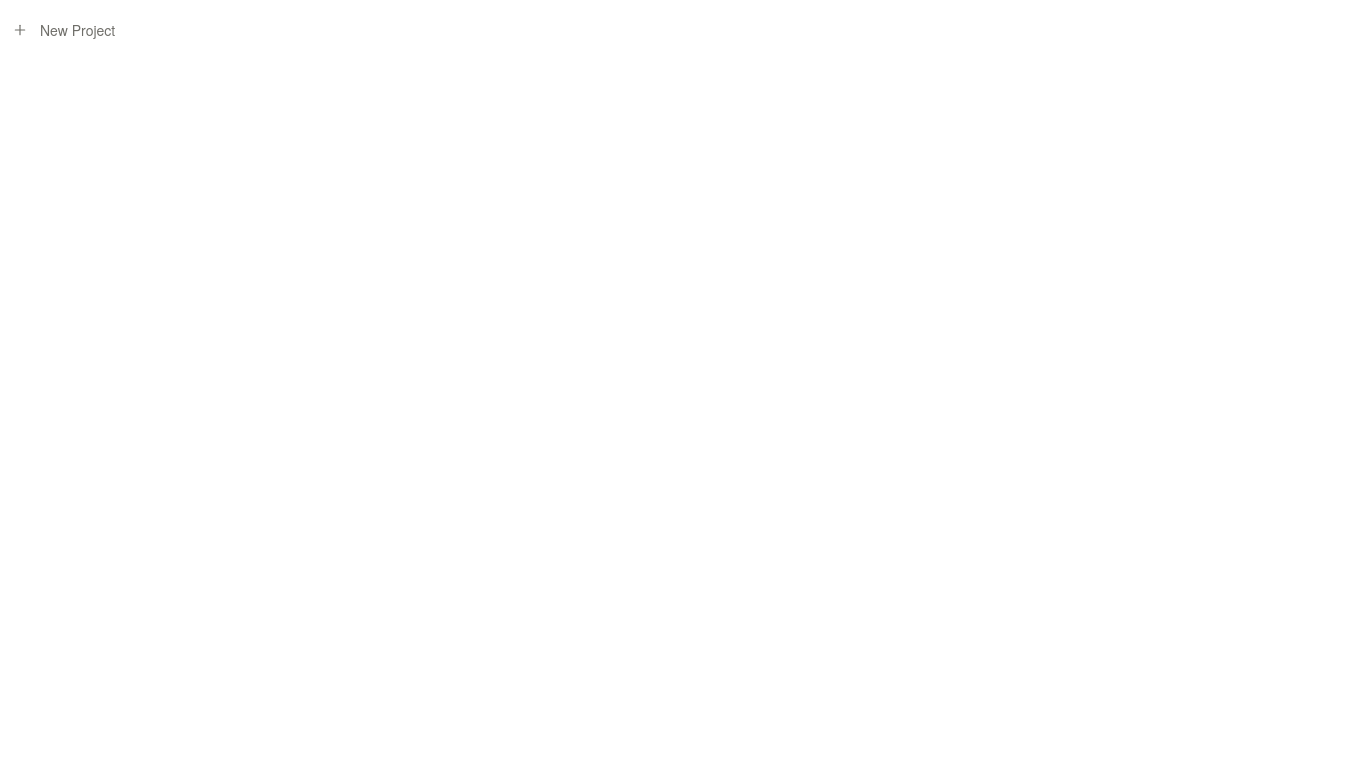
Test: CreateProjectDialog › creates a remote project with selected host and remote path
The image size is (1366, 768).
Later steps or results of the test are not shown.
Click the button "New Project": (78, 30) x1=0 y1=12 x2=1365 y2=48
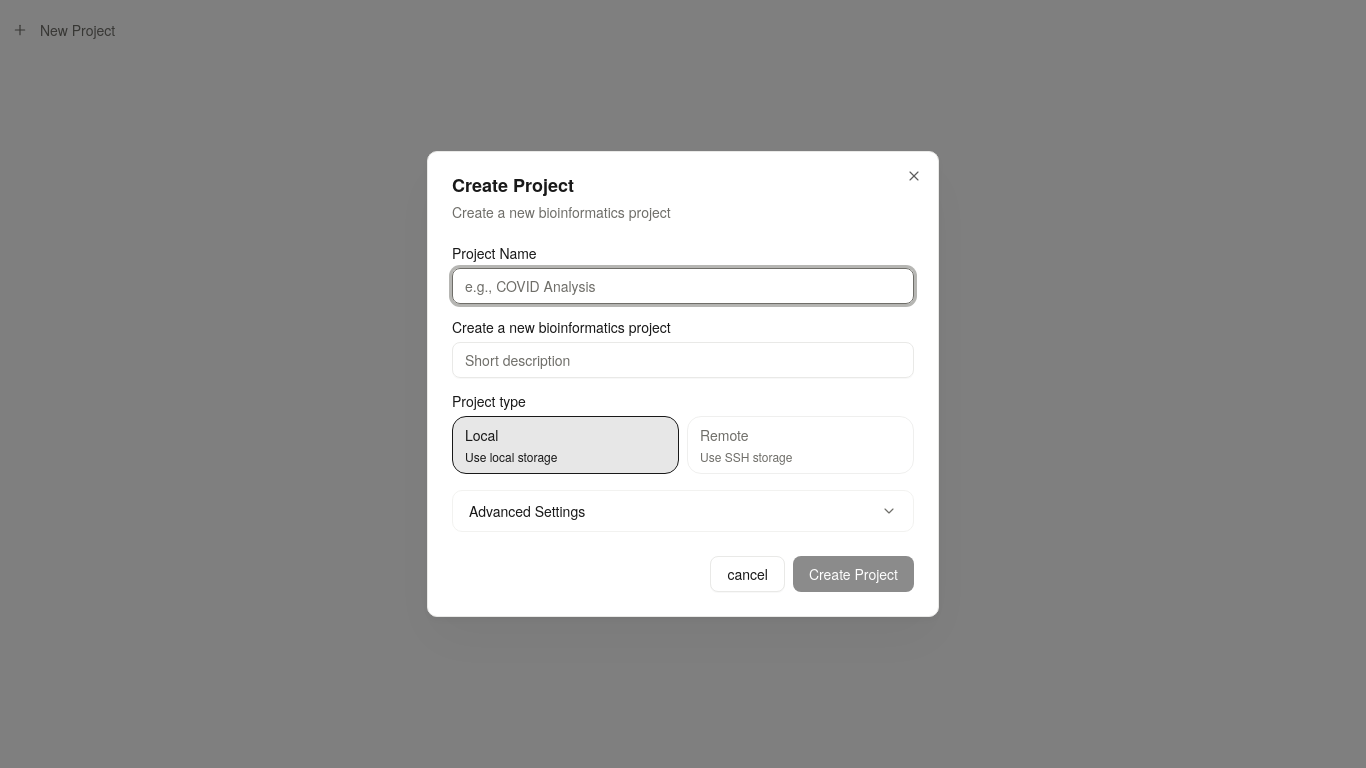
In the field labelled "Project Name": (683, 286) x1=452 y1=268 x2=914 y2=304, type "Phoenix sample"
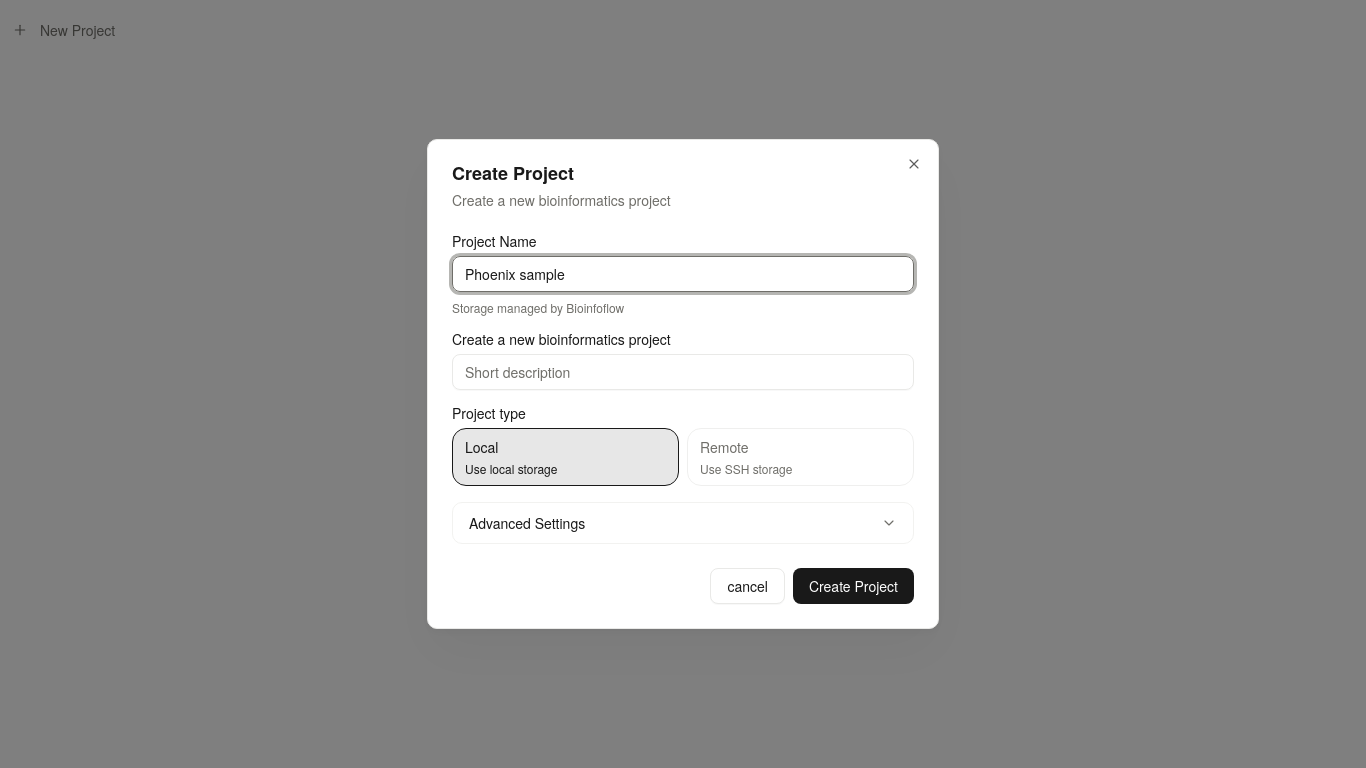
Click the radio button labelled "Remote Use SSH storage": (800, 457) x1=687 y1=428 x2=914 y2=486
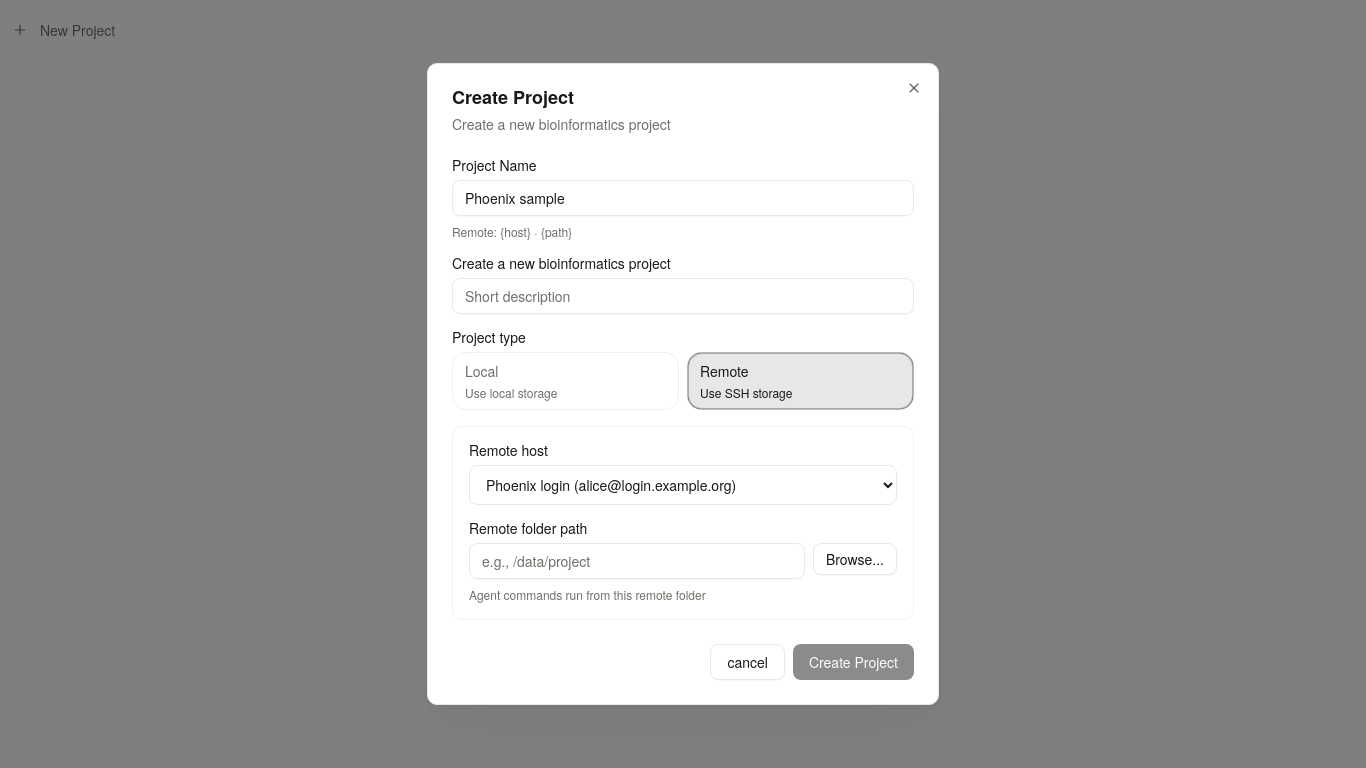
Now the dropdown labelled "Remote host" is shown, box x1=469 y1=465 x2=897 y2=505
